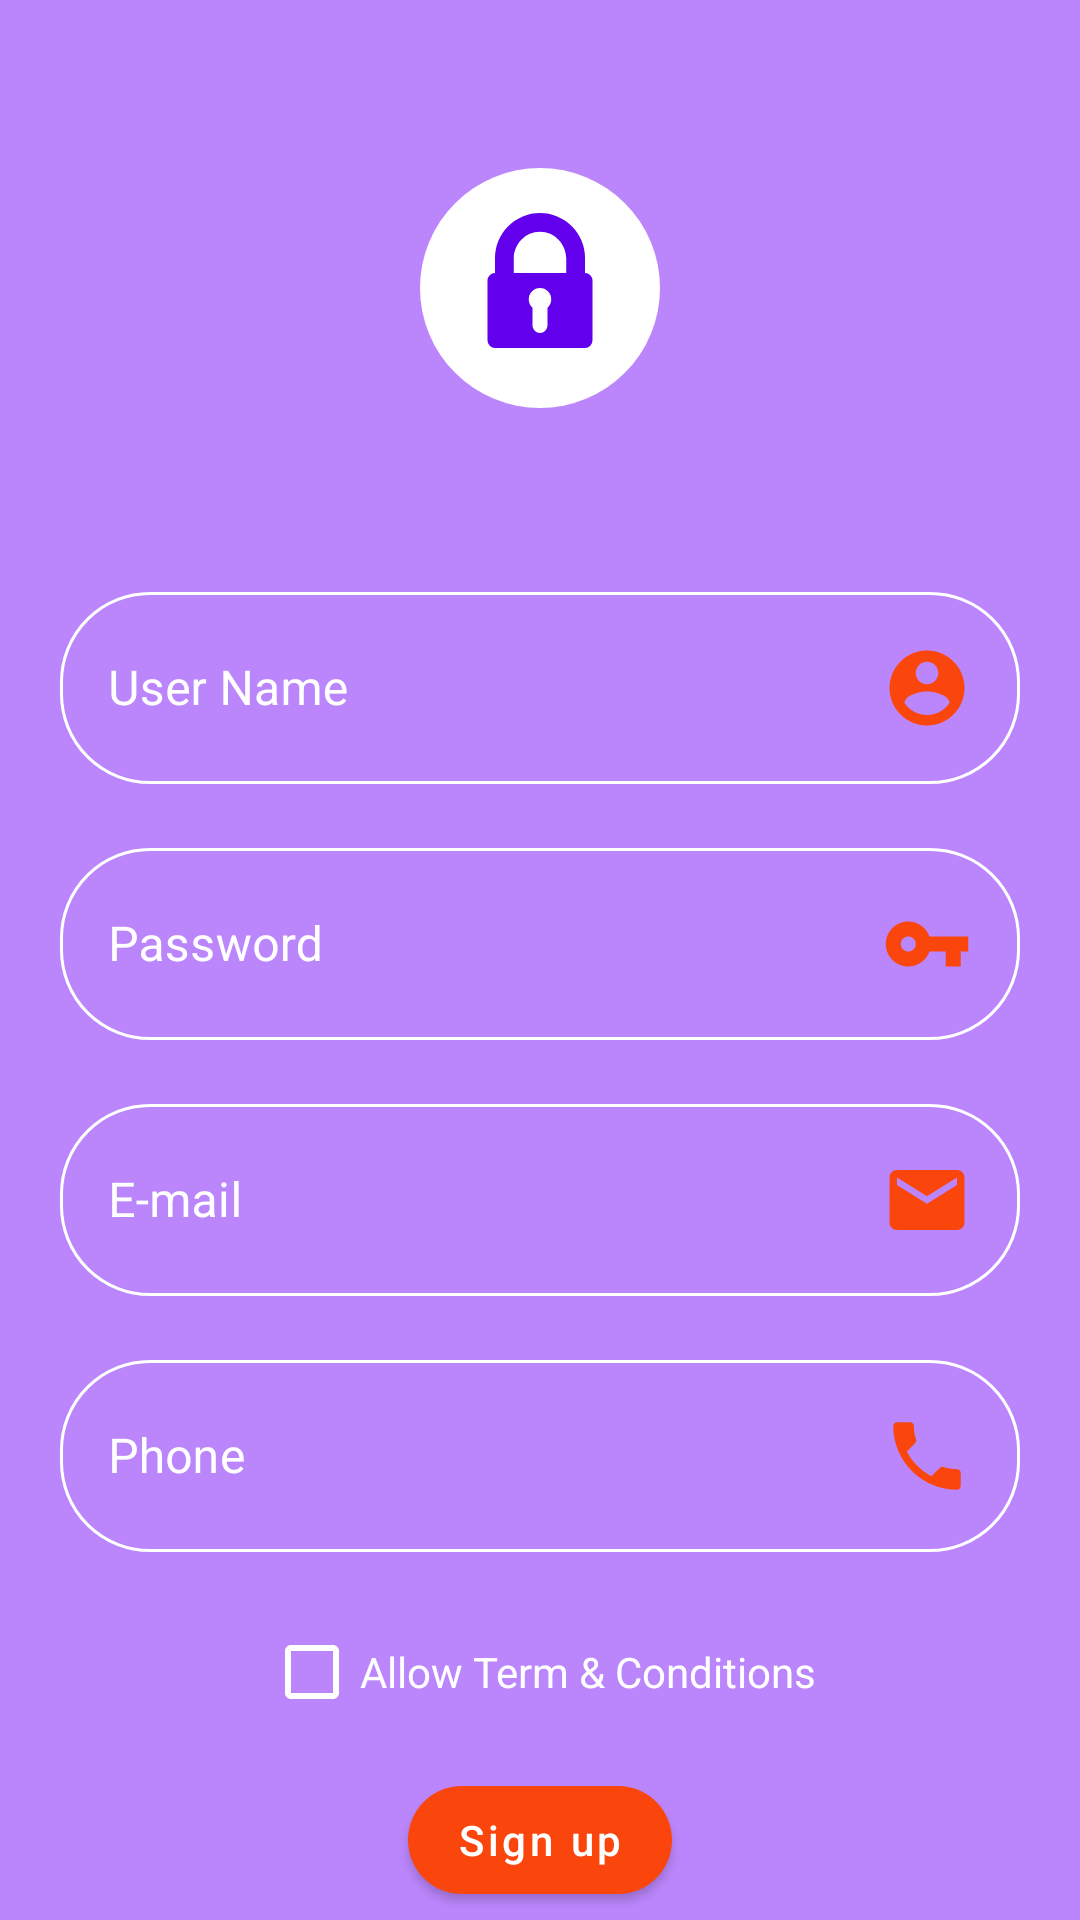

Icons on this 1080px x 1920px Android screen, each with the point to tap as [x,y]:
securitybusiness: [540,288]
